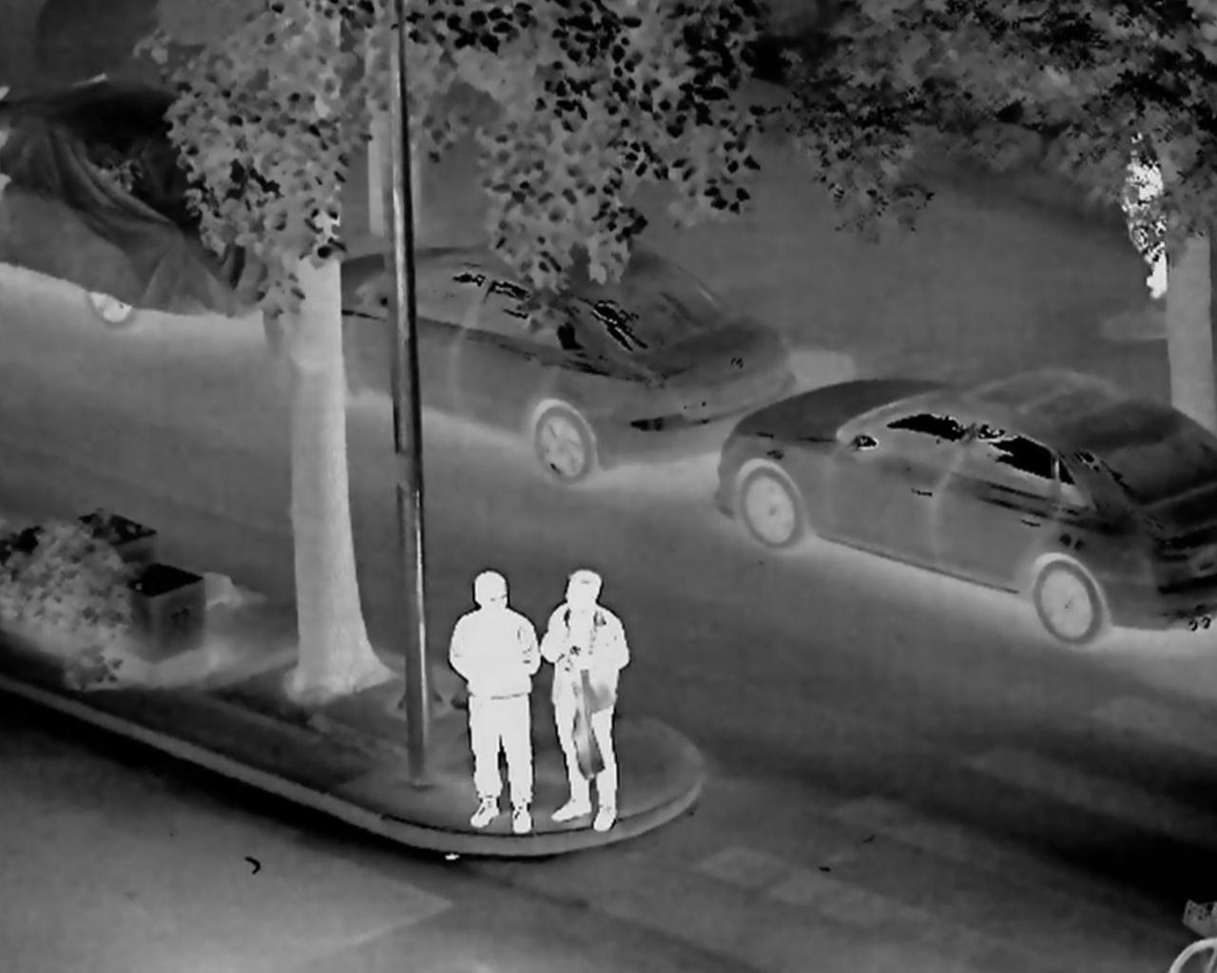person: (440, 553, 542, 831), (541, 566, 641, 838), (1099, 134, 1192, 329)
